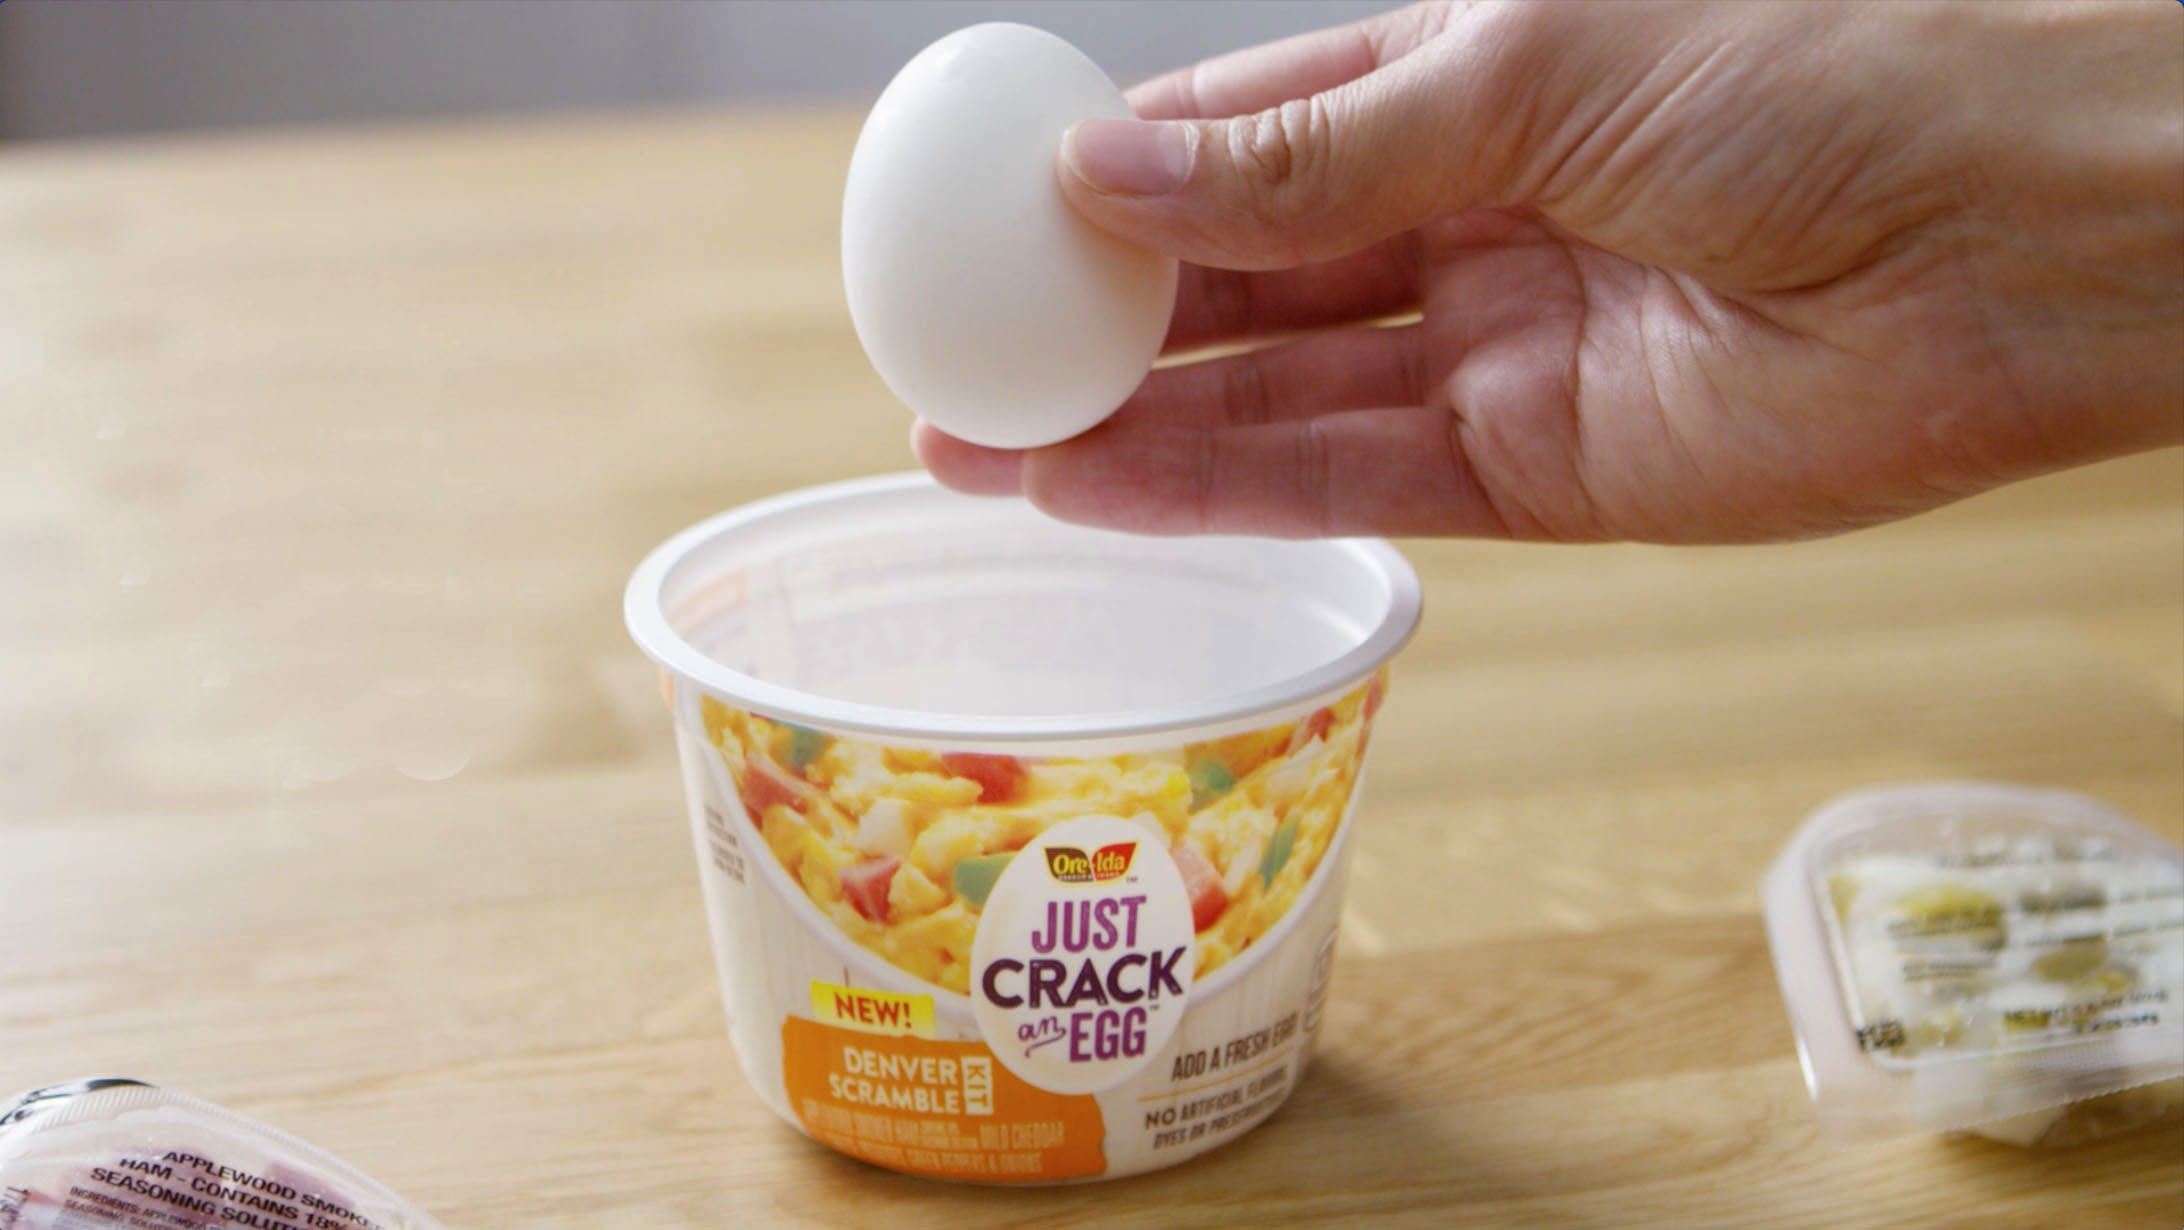Egg: (826, 7, 1186, 469)
